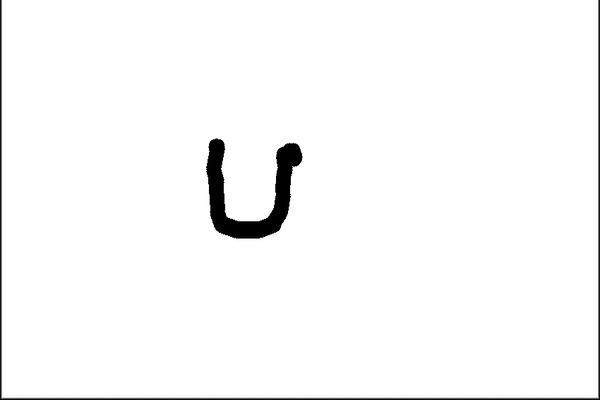U: (192, 134, 304, 248)
